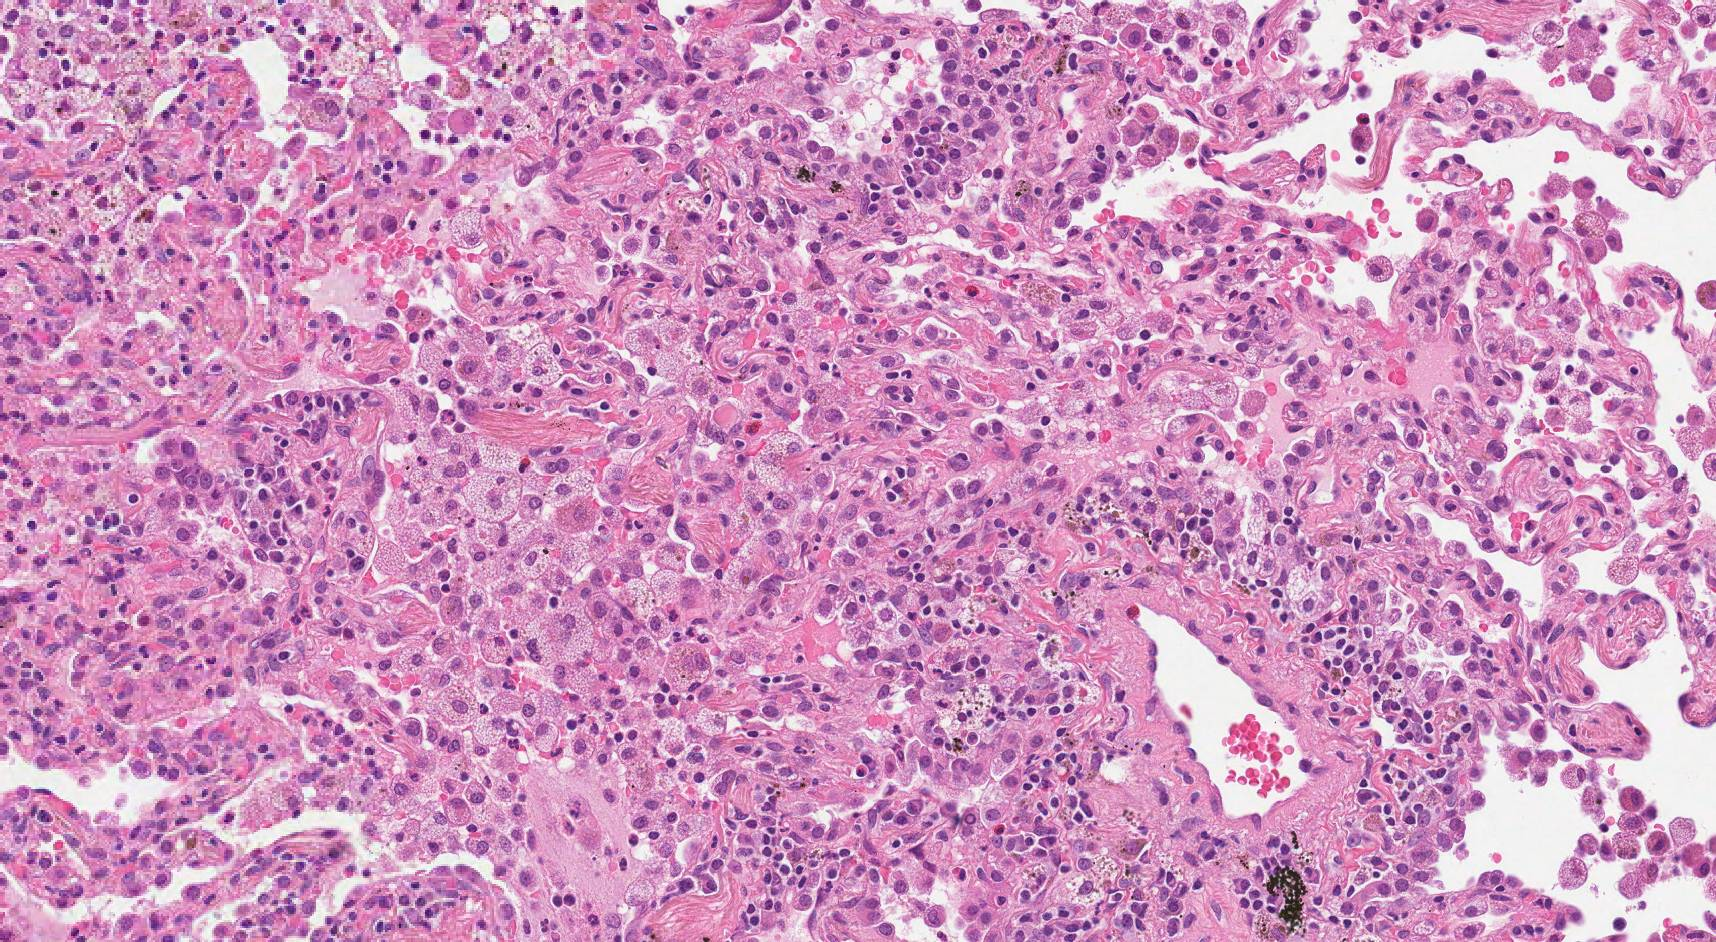stas: (150, 437, 224, 517)
